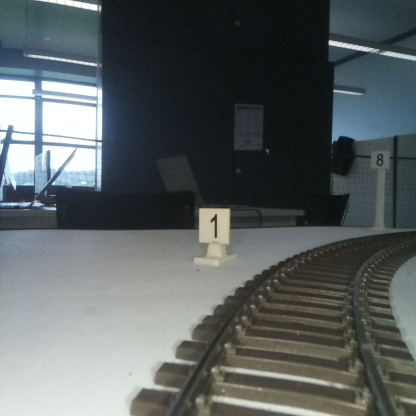white-info-8: (371, 150, 389, 229)
white-stop-1: (198, 208, 229, 262)
